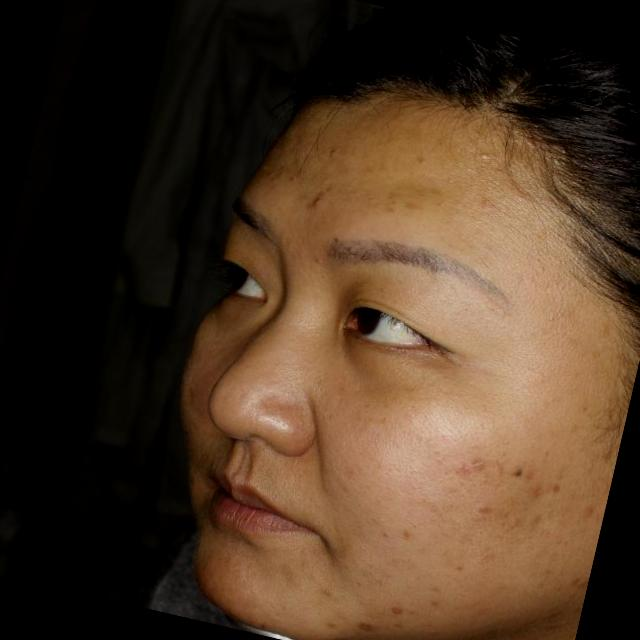acne: (344, 601, 386, 640), (298, 184, 338, 217), (469, 492, 505, 526), (460, 449, 484, 482), (525, 506, 553, 533), (386, 594, 407, 628), (526, 472, 548, 500)
